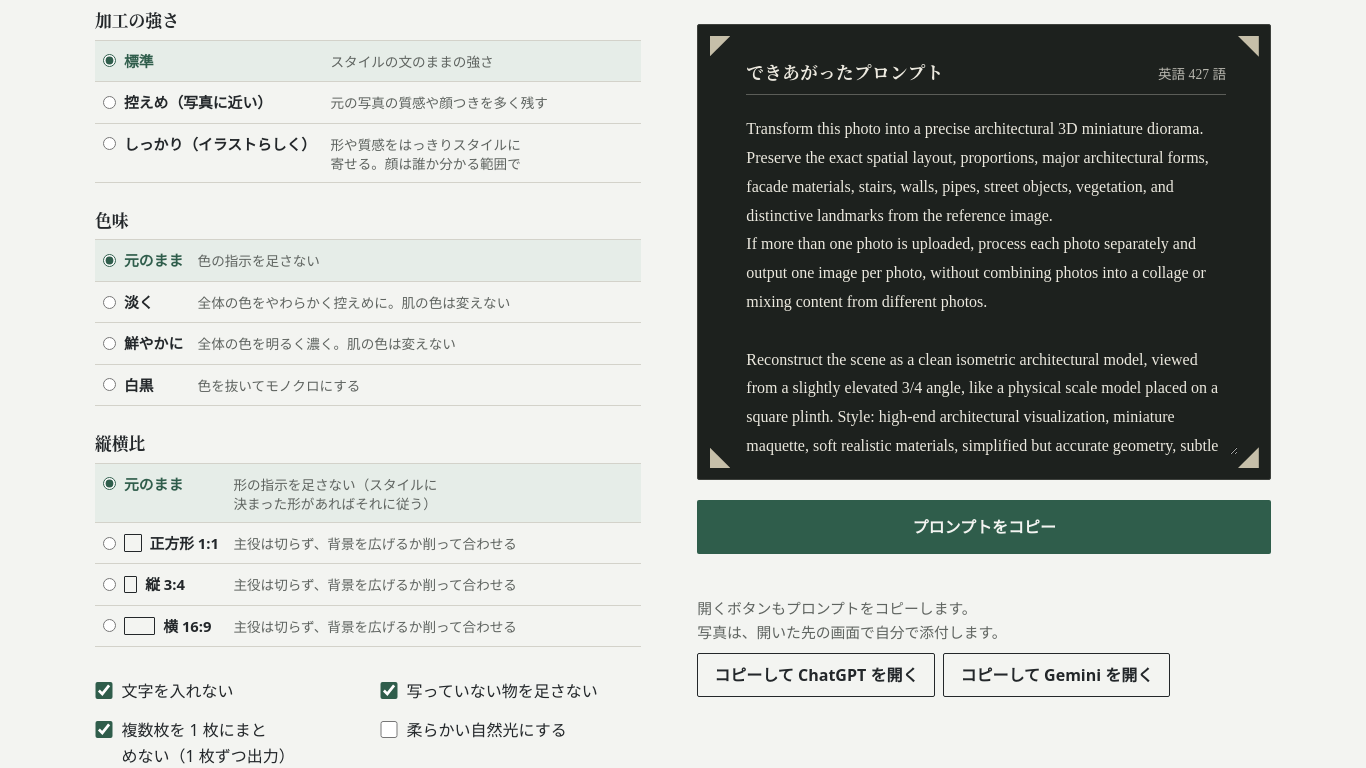
it: App › スタイルを切り替えるとトグルはそのスタイルの既定に戻り、ラジオは引き継ぐ
The image size is (1366, 768).
(page scrolled)
Click the radio button labelled "白黒". click: (110, 385)
box: x1=103 y1=378 x2=116 y2=391
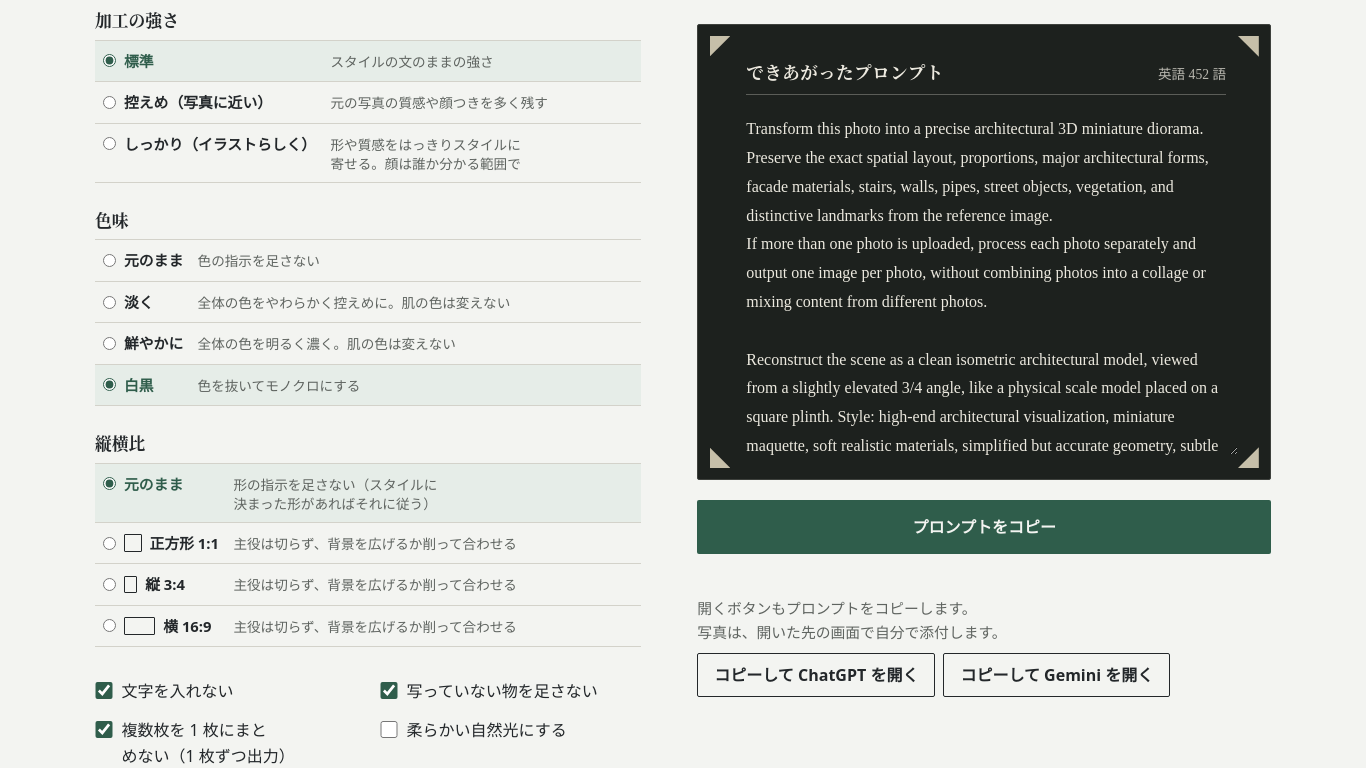
Click the checkbox labelled "柔らかい自然光にする". click: (389, 730)
box: x1=380 y1=721 x2=398 y2=738
(page scrolled)
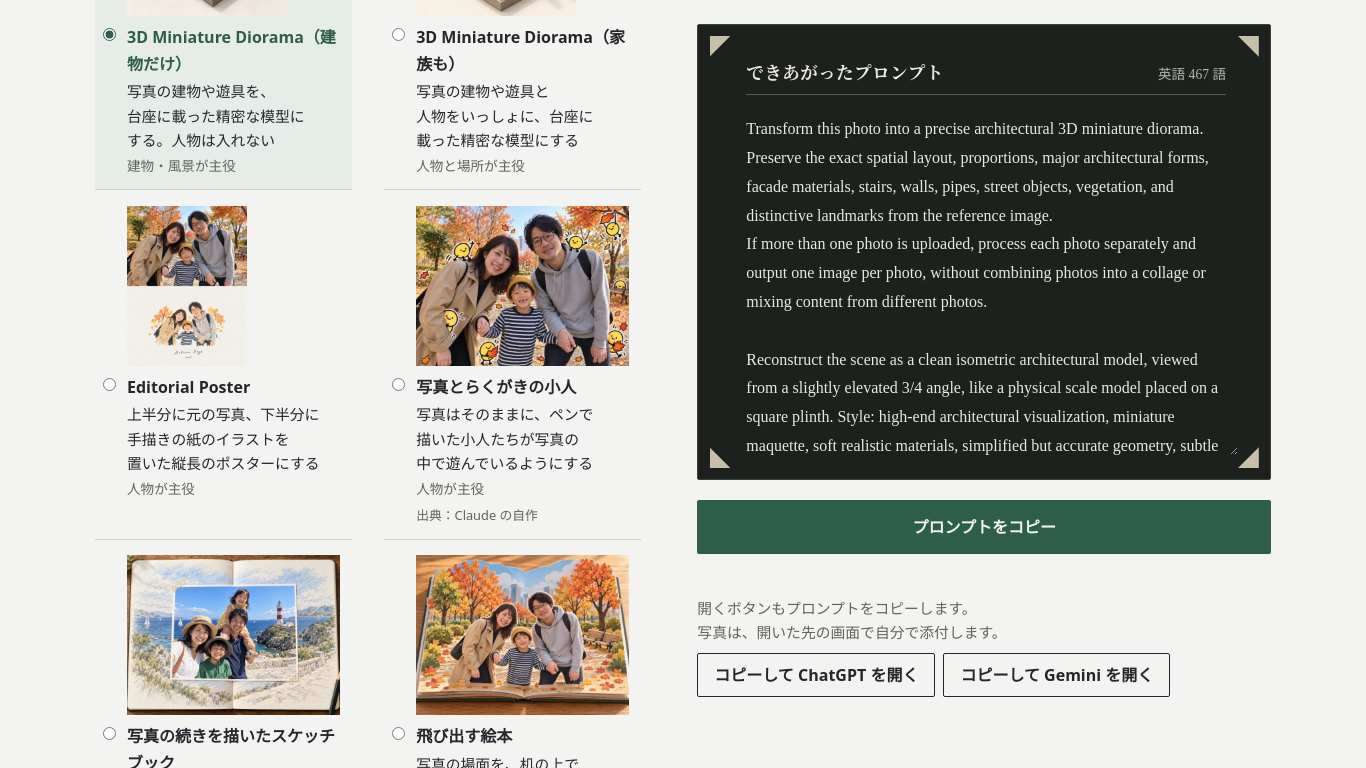
Click the radio button labelled "Editorial Poster 上半分に元の写真、下半分に手描きの紙のイラストを置いた縦長のポスターにする 人物が主役". click: (110, 384)
box: x1=103 y1=378 x2=116 y2=391
(page scrolled)
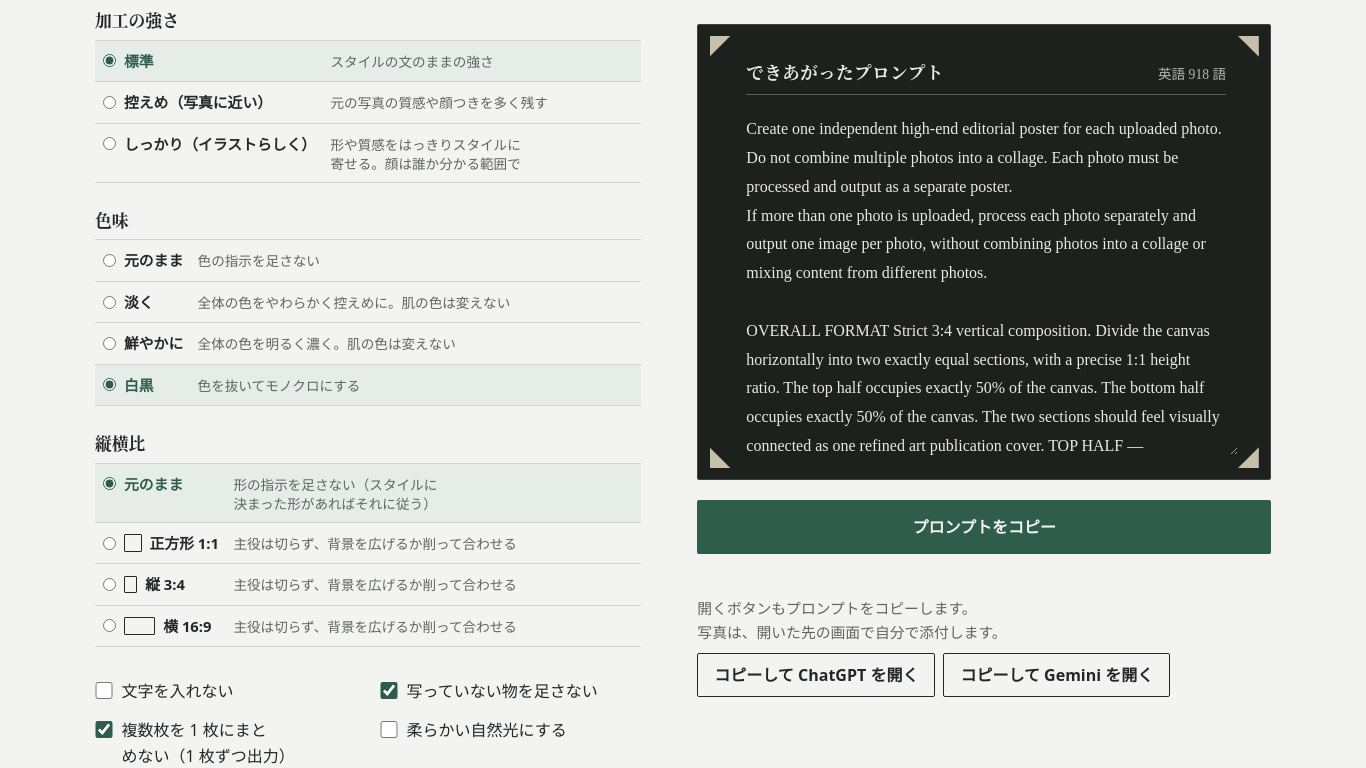
Expected: the checkbox labelled "柔らかい自然光にする" is not checked, x1=380 y1=721 x2=398 y2=738
Expected: the radio button labelled "白黒" is checked, x1=103 y1=378 x2=116 y2=391
Expected: the checkbox labelled "文字を入れない" is not checked, x1=95 y1=682 x2=113 y2=699
